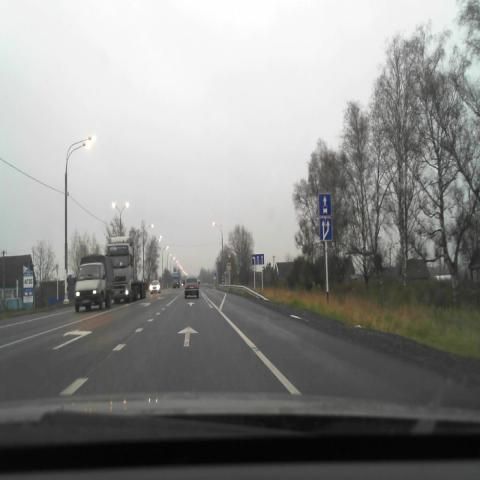5_14: (318, 193, 332, 217)
5_15_3: (320, 218, 332, 241)
